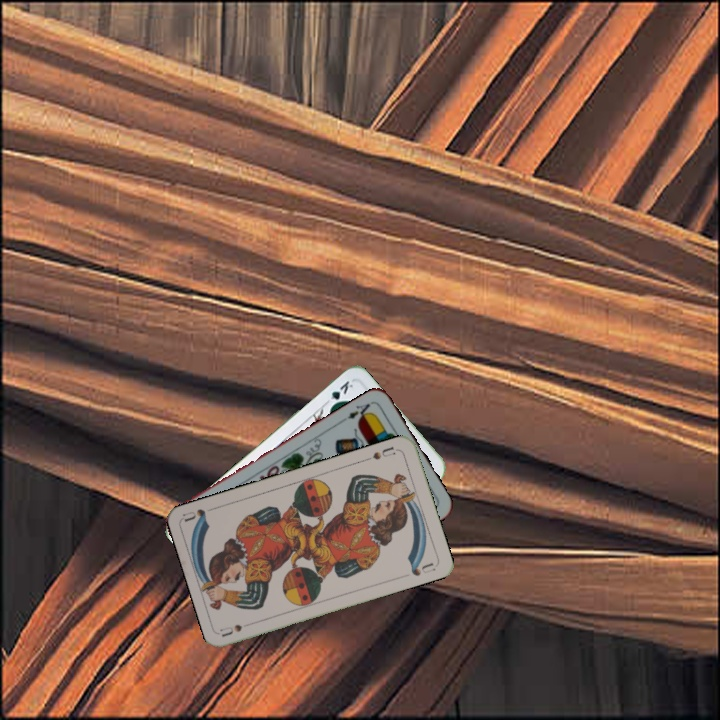EA: (338, 400, 374, 424)
GK: (321, 376, 356, 411)
SU: (361, 442, 401, 464), (217, 618, 258, 639)
